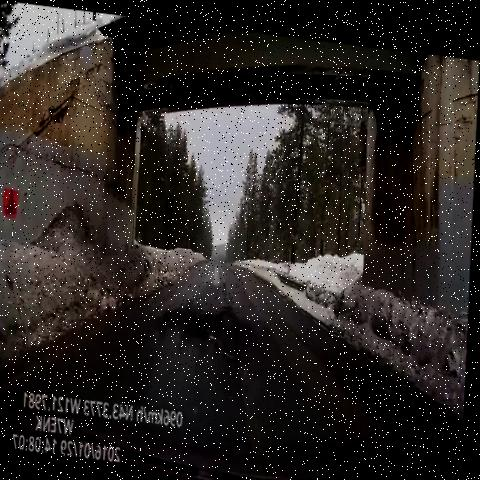pothole: (179, 284, 256, 376)
